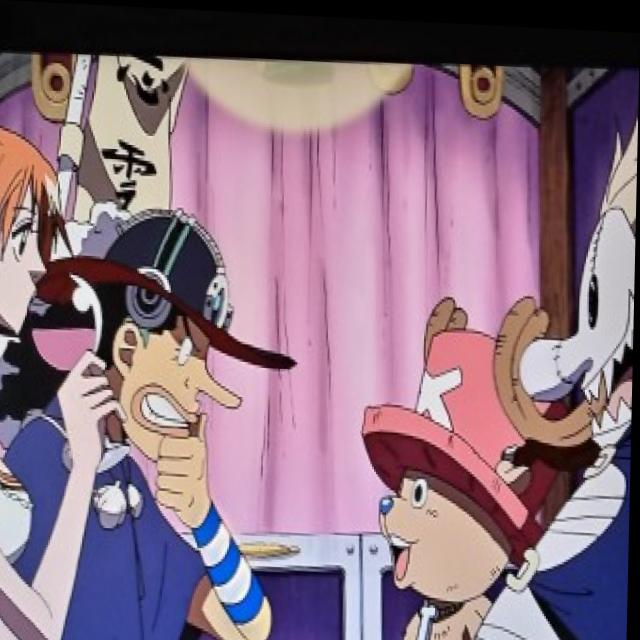Chyopa: (349, 269, 592, 640)
Nami: (0, 121, 85, 350)
Usopp: (72, 204, 253, 469)
